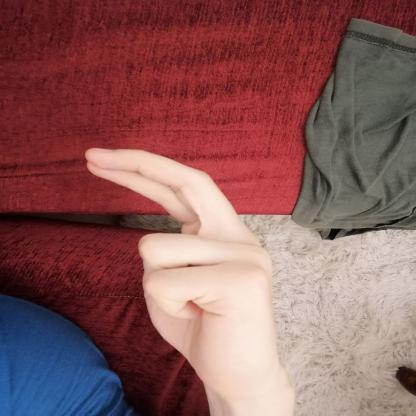ZAY: (73, 138, 295, 404)
